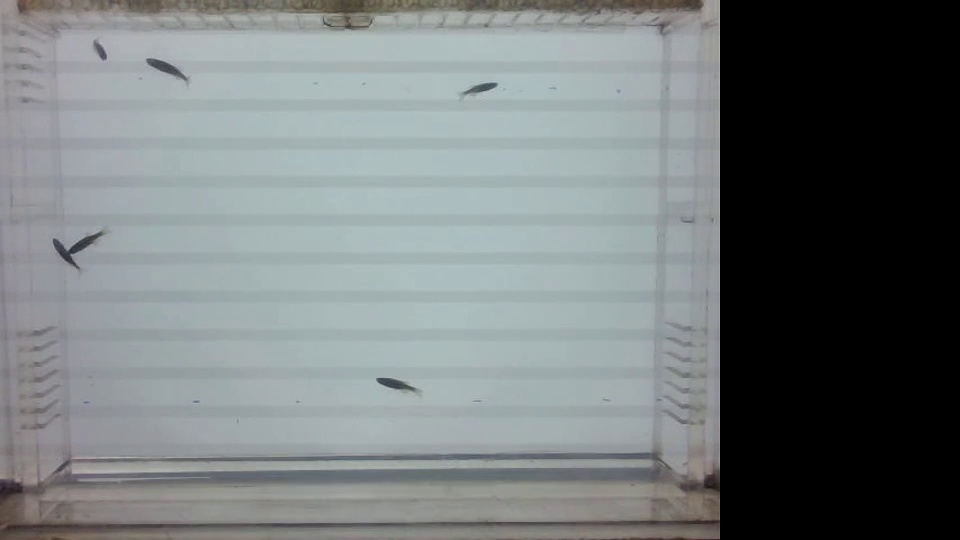fish: (140, 52, 200, 90), (369, 372, 428, 401), (453, 76, 501, 105), (48, 237, 81, 277), (68, 228, 108, 258), (88, 36, 114, 68)
